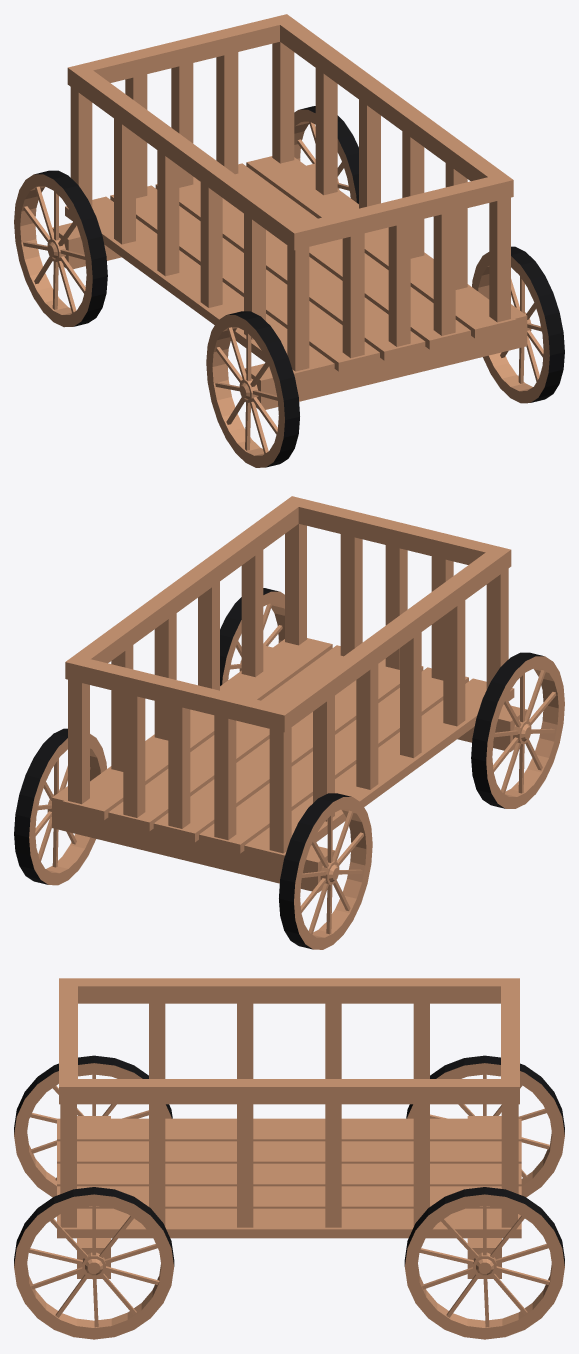
Rendered from Cart.fbx.
3 views of the same model, one above another, from view 1: azimuth 30°, elevation 25°; view 2: azimuth 150°, elevation 25°; view 3: azimuth 270°, elevation 25° (orthographic).
Parts seen in each view (by area): view 1: Cube, Cube.005, Cube.003, Cube.001, Cylinder, Cylinder.001, Cube.002, Cube.006, Cube.004, Cube.007, Cube.008; view 2: Cube, Cube.005, Cube.003, Cube.001, Cylinder.001, Cylinder, Cube.004, Cube.006, Cube.002, Cube.008, Cube.007; view 3: Cube, Cube.005, Cylinder.001, Cylinder, Cube.001, Cube.003, Cube.007, Cube.008, Cube.006.
Part boxes in pixels (<box>): Cube: <box>65,156,516,381</box>; Cube.005: <box>67,14,513,250</box>; Cube.003: <box>70,87,309,371</box>; Cube.001: <box>272,42,510,322</box>; Cylinder: <box>206,246,564,467</box>; Cylinder.001: <box>14,106,358,327</box>; Cube.002: <box>342,211,455,358</box>; Cube.006: <box>52,163,527,409</box>; Cube.004: <box>125,52,238,198</box>; Cube.007: <box>215,277,543,453</box>; Cube.008: <box>23,121,349,313</box>; Cube: <box>63,638,514,863</box>; Cube.005: <box>65,496,511,732</box>; Cube.003: <box>269,568,508,853</box>; Cube.001: <box>68,524,306,804</box>; Cylinder.001: <box>14,728,372,949</box>; Cylinder: <box>220,588,564,808</box>; Cube.004: <box>123,693,236,840</box>; Cube.006: <box>52,645,527,892</box>; Cube.002: <box>340,534,453,680</box>; Cube.008: <box>35,759,363,934</box>; Cube.007: <box>230,603,556,793</box>; Cube: <box>57,1118,521,1238</box>; Cube.005: <box>59,978,519,1104</box>; Cylinder.001: <box>404,1055,564,1339</box>; Cylinder: <box>14,1055,174,1339</box>; Cube.001: <box>60,1104,517,1227</box>; Cube.003: <box>149,1003,429,1078</box>; Cube.007: <box>28,1074,159,1327</box>; Cube.008: <box>419,1074,549,1327</box>; Cube.006: <box>77,1116,501,1278</box>.
Size of the model in its own units: 186 by 146 by 306.
